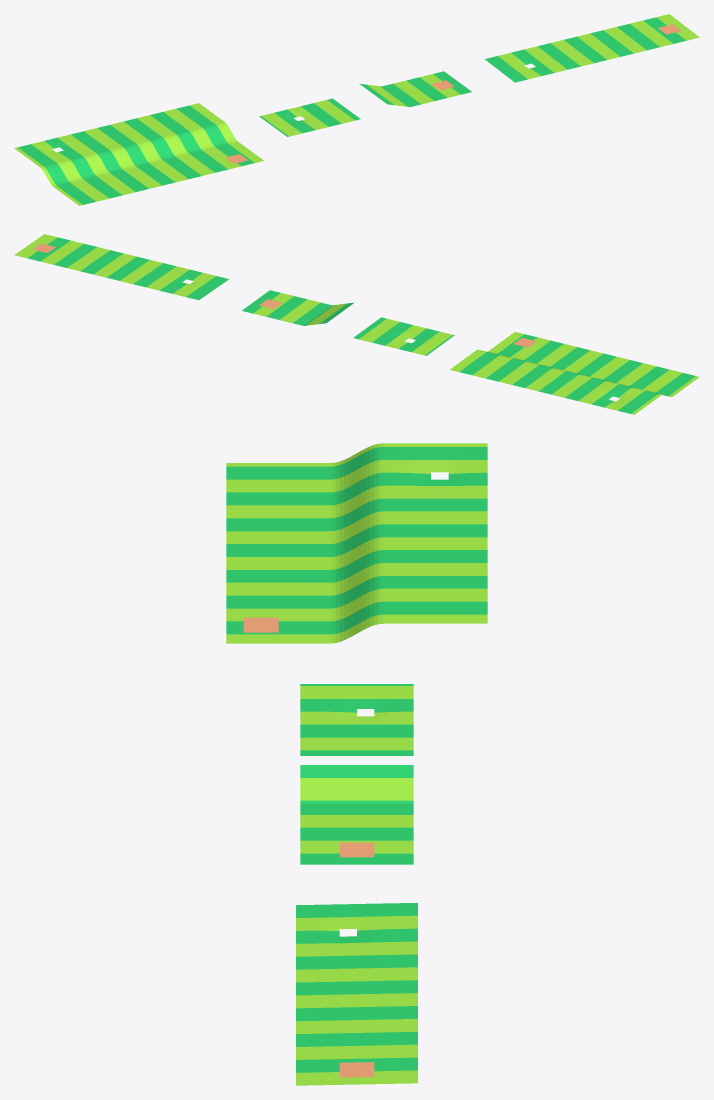
Rendered from greens2.glb.
The picture shows the model from 3 angles, top to bottom: view 1: azimuth 30°, elevation 25°; view 2: azimuth 150°, elevation 25°; view 3: azimuth 270°, elevation 25°; orthographic projection. The views are drawn at different scales.
Visible parts, largest first — view 1: Green6, Green4, Green5; view 2: Green6, Green4, Green5; view 3: Green6, Green4, Green5.
Part boxes in pixels (box(x1,y1,x2,y2)): Green6: box(14, 103, 263, 205); Green4: box(485, 14, 699, 82); Green5: box(259, 71, 471, 136); Green6: box(450, 332, 699, 414); Green4: box(14, 234, 228, 300); Green5: box(242, 290, 454, 355); Green6: box(226, 443, 487, 643); Green4: box(296, 902, 417, 1085); Green5: box(300, 684, 413, 864).
Bounding box in the file's own units: 33.8 × 0.5255 × 6.
